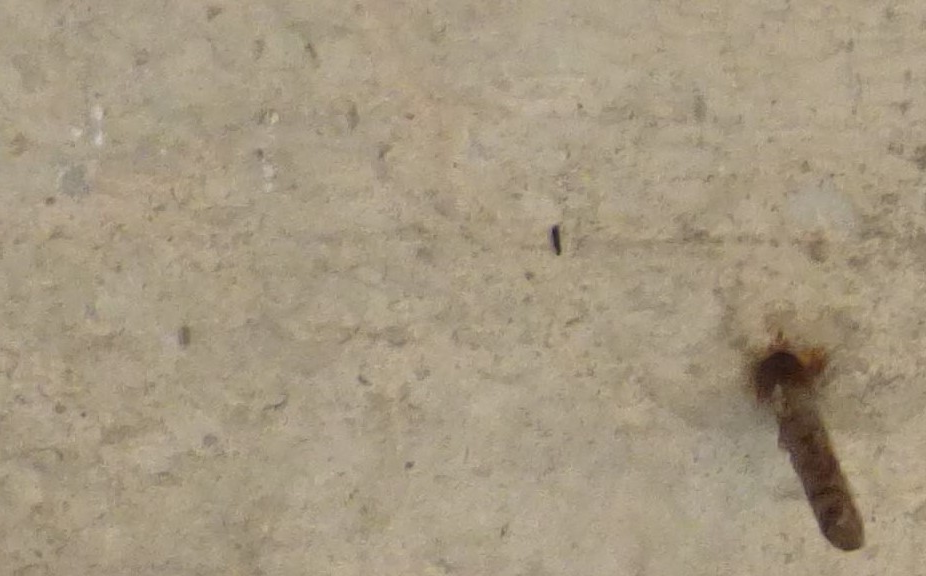Exposed reinforcement: (758, 356, 865, 552)
